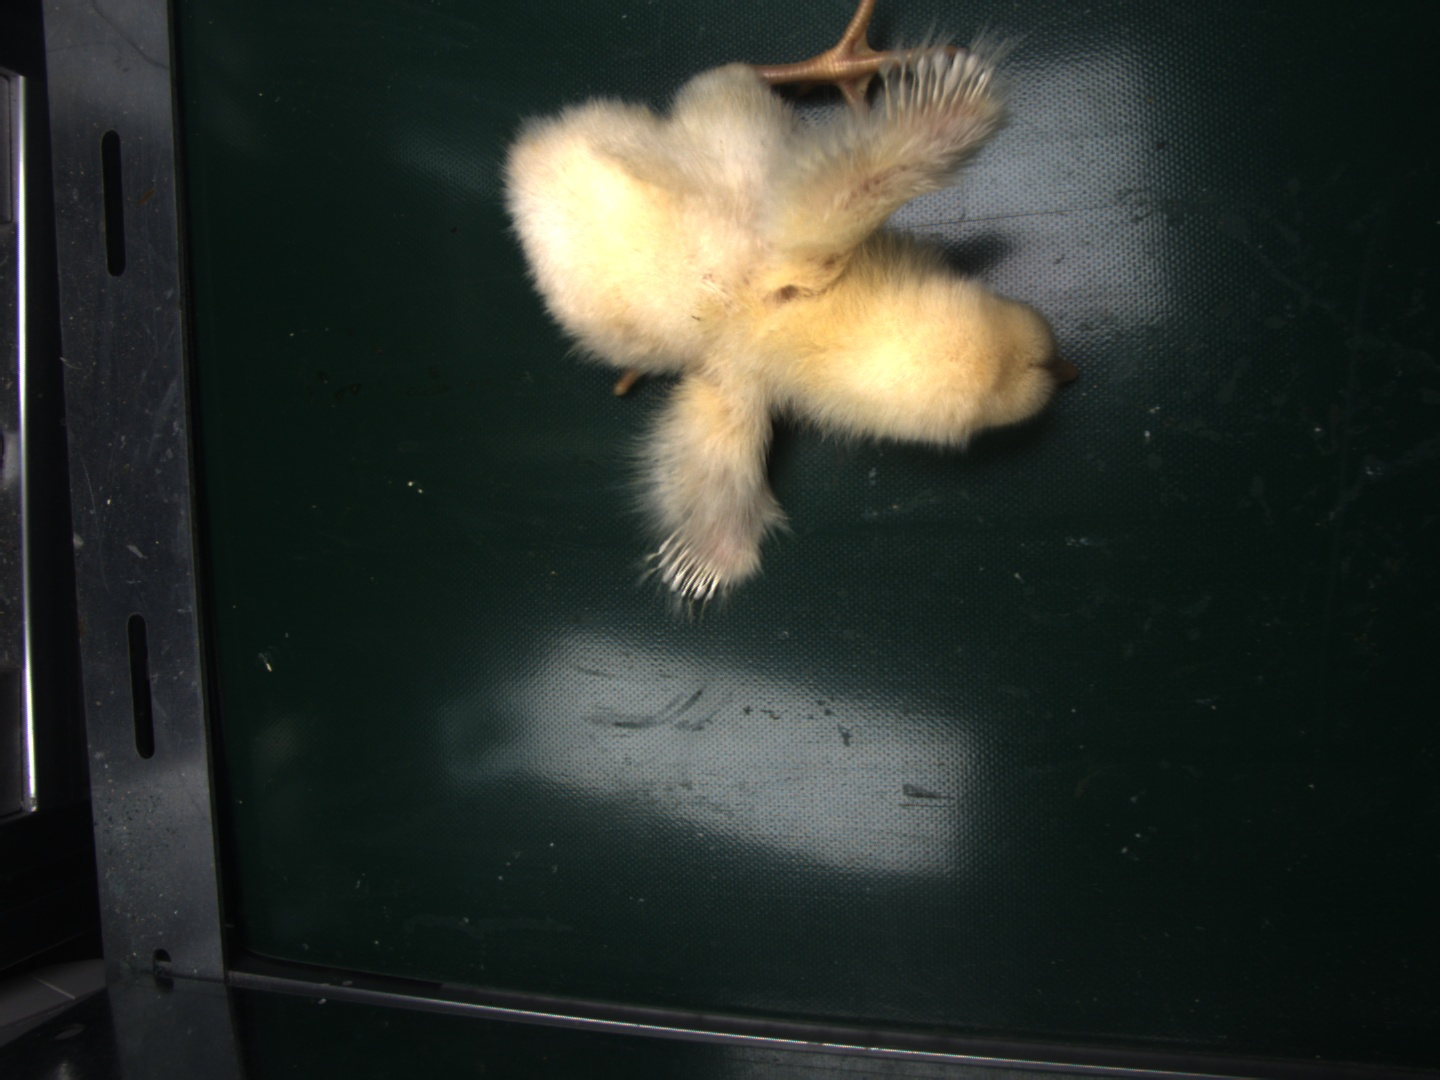male: (657, 526, 727, 599), (891, 70, 990, 112)
